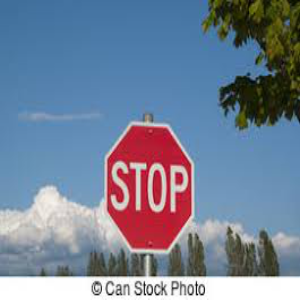STOP_SIGN: (103, 120, 196, 255)
